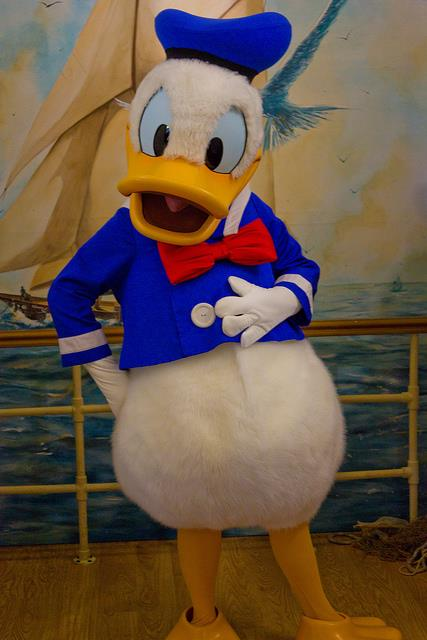Donald_Duck: (61, 2, 387, 626)
